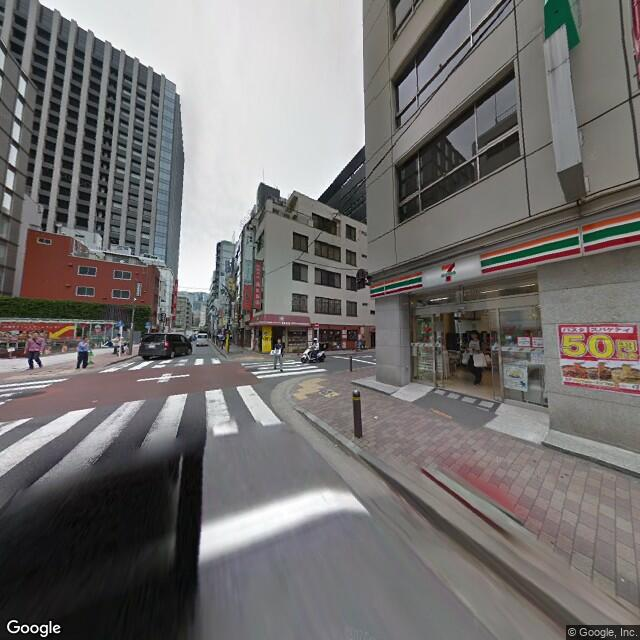7-eleven: (369, 203, 639, 303)
